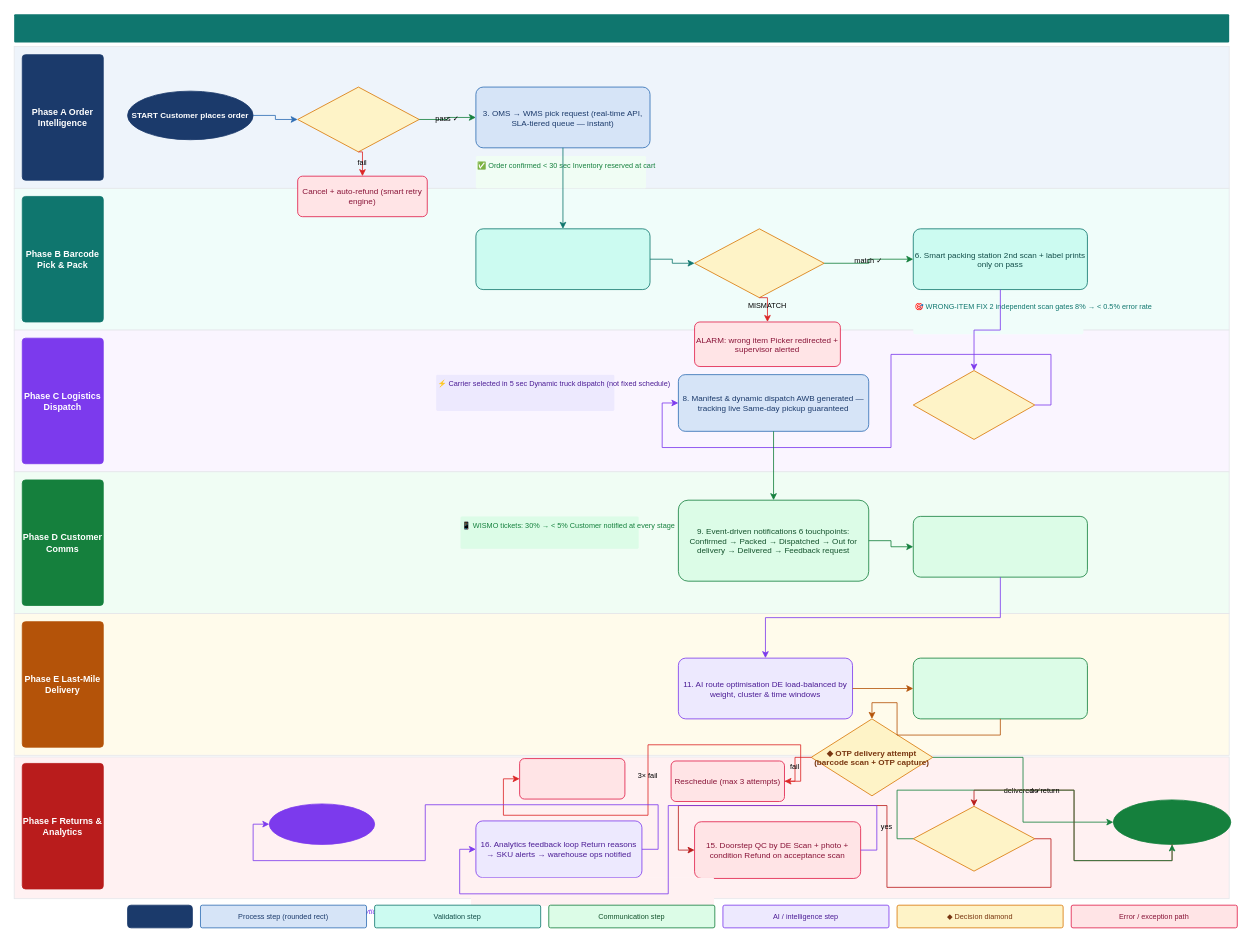
Image size: 1251x942. Some labels were removed from this diagram. Here are the shapes that lost their labels. From the top down, the centre of each, then its label:
the point at 621,28: TO-BE ORDER FULFILLMENT PROCESS — REDESIGNED E-COMMERCE FULFILLMENT ENGINE
the point at 358,119: ◆ Payment & fraud check (auto, <10 sec)
the point at 562,259: 4. Digital pick list on handheld scanner (WMS-optimised route)
the point at 759,263: ◆ BARCODE SCAN item match check (mandatory)
the point at 973,404: ◆ Carrier auto-select (rules engine)
the point at 999,546: 10. Live GPS tracking DE location shared ETA updated every 30 sec
the point at 999,688: 12. WhatsApp pre-alert 60 min before arrival Customer confirms / reschedules
the point at 572,778: RTO after 3 fails
the point at 322,823: Refund in 2-3 days ✓
the point at 973,838: ◆ Customer raises return?
the point at 1172,821: DELIVERED ✓ (OTP confirmed)
the point at 592,891: 🔄 Refund: 7-10 days → 2-3 days Return rate: 12% → < 4%
the point at 159,916: LEGEND
